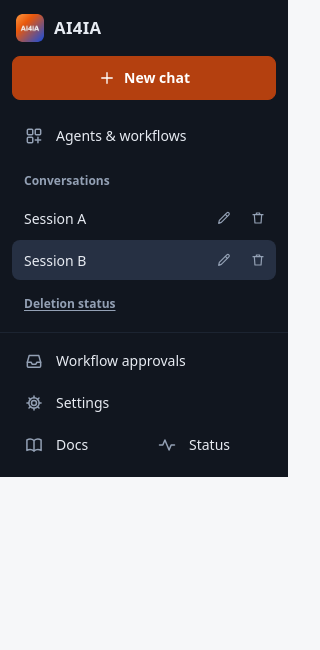
it: responsive sidebar › deleting a conversation › asks on the row, says what deleting does, and deletes only once confirmed
The width and height of the screenshot is (320, 650).
Click the button named "Delete Session A" at (258, 218), box [242, 202, 274, 234]
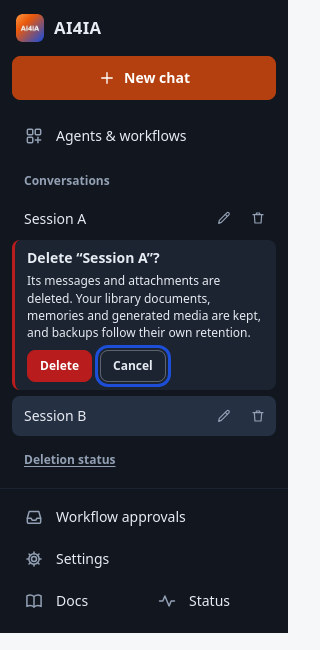
Click the button "Delete" at (60, 366), box [27, 350, 92, 382]
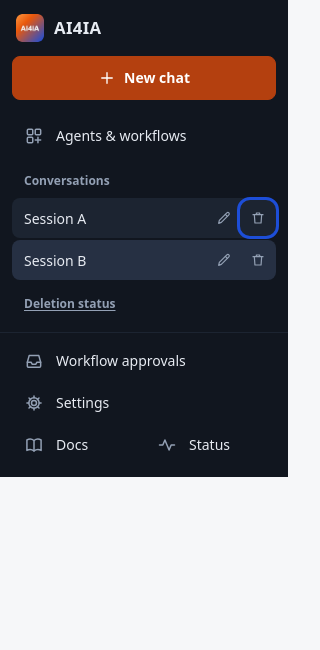
Now the text "Delete “Session A”" is gone
